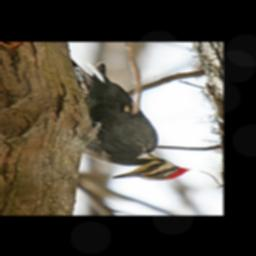Woodpecker: (68, 58, 191, 181)
